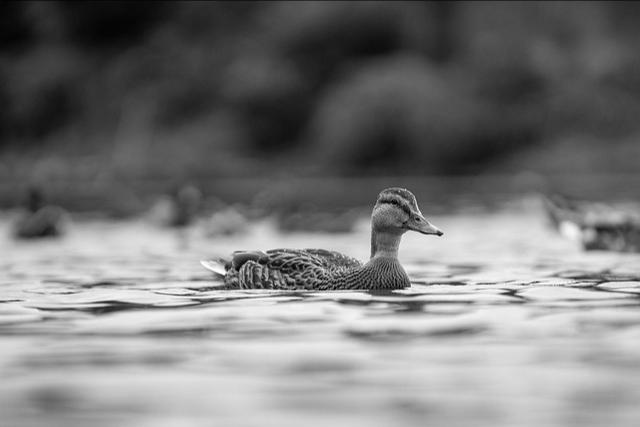Non_Gorille: (187, 126, 482, 374)
